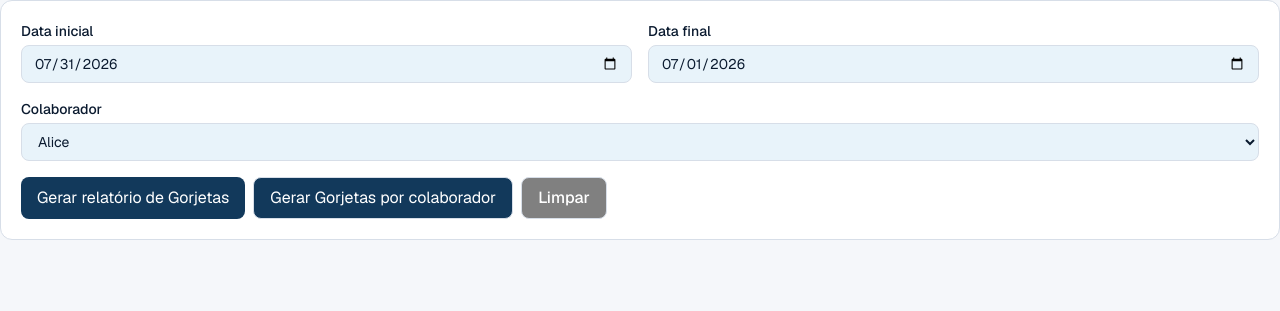
it: CommissionsFilter flow › shows validation when initial date is greater than final date
Click the button "Gerar relatório de Gorjetas" at (133, 198), box [21, 177, 245, 219]
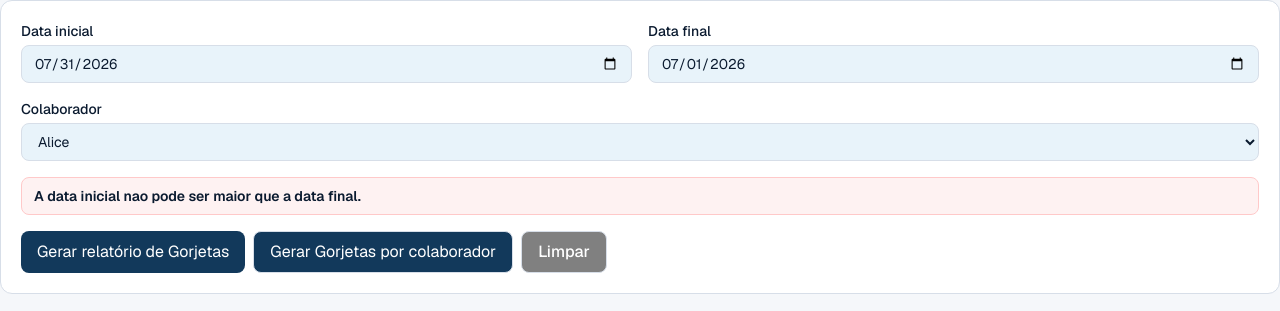
Result: the text "A data inicial nao pode ser maior que a data final." is shown at [21, 177, 1259, 215]
